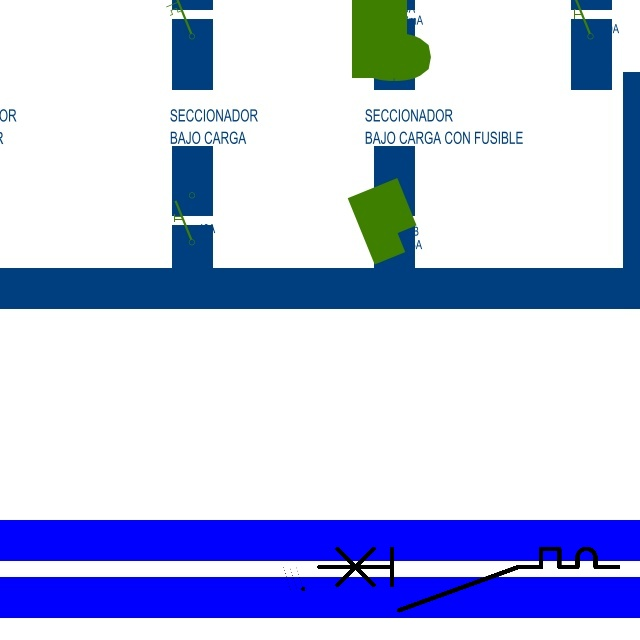interruptor_termomagnetico: (311, 541, 625, 618)
